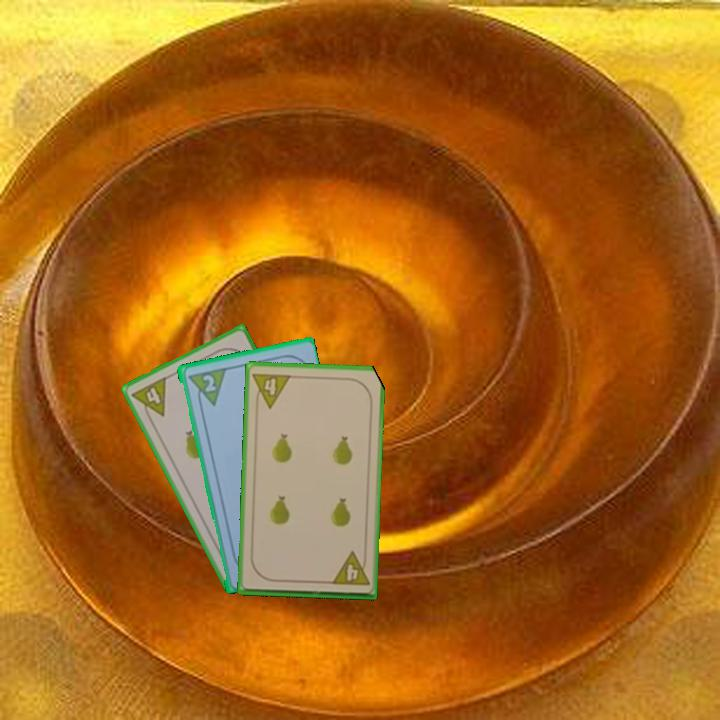2p: (199, 371, 218, 395)
4p: (128, 373, 169, 425), (249, 369, 294, 411), (328, 549, 372, 589)
